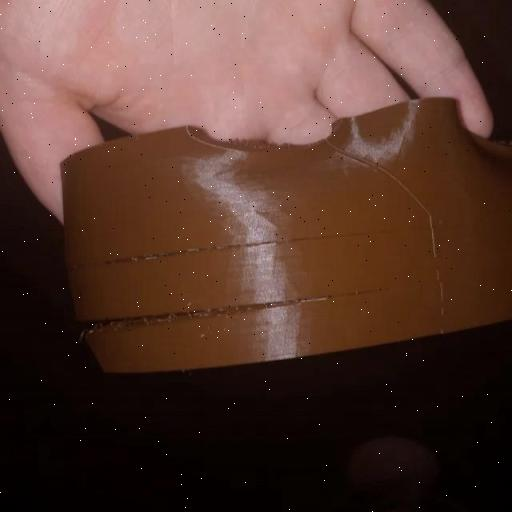cracks: (79, 211, 426, 275), (72, 283, 394, 339)
